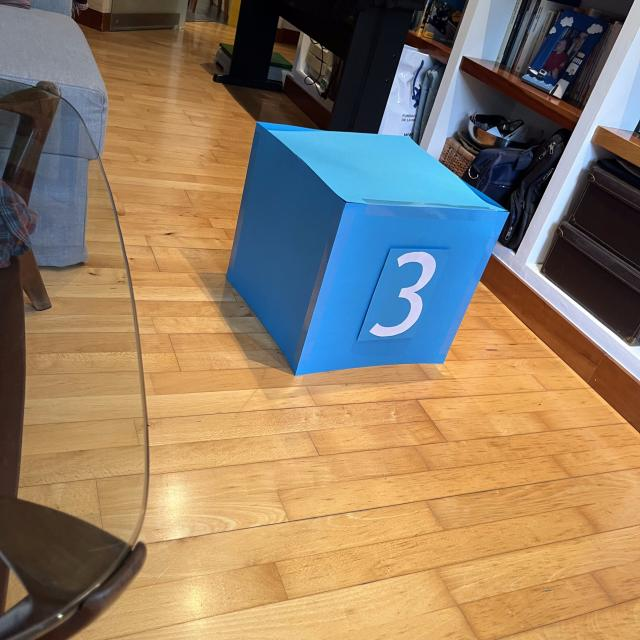box: (222, 116, 511, 378)
